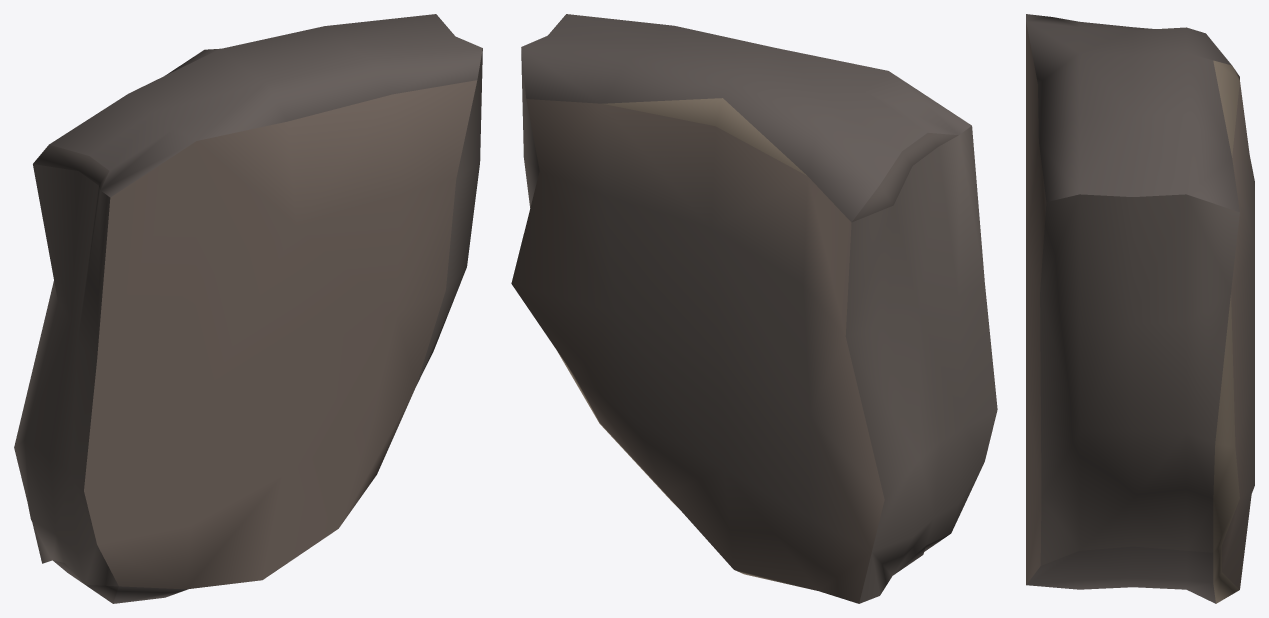
File: RockSmall.009.glb
3 renders of one model, left to right at view 1: azimuth 30°, elevation 25°; view 2: azimuth 150°, elevation 25°; view 3: azimuth 270°, elevation 25°, orthographic. The views are drawn at different scales.
Parts seen in each view (by area): view 1: RockSmall.009; view 2: RockSmall.009; view 3: RockSmall.009.
Part boxes in pixels (x1,y1,x2,y2): RockSmall.009: (14, 14, 482, 603); RockSmall.009: (511, 14, 997, 603); RockSmall.009: (1026, 14, 1254, 603).
Bounding box in the file's own units: 165 × 184 × 67.5.
